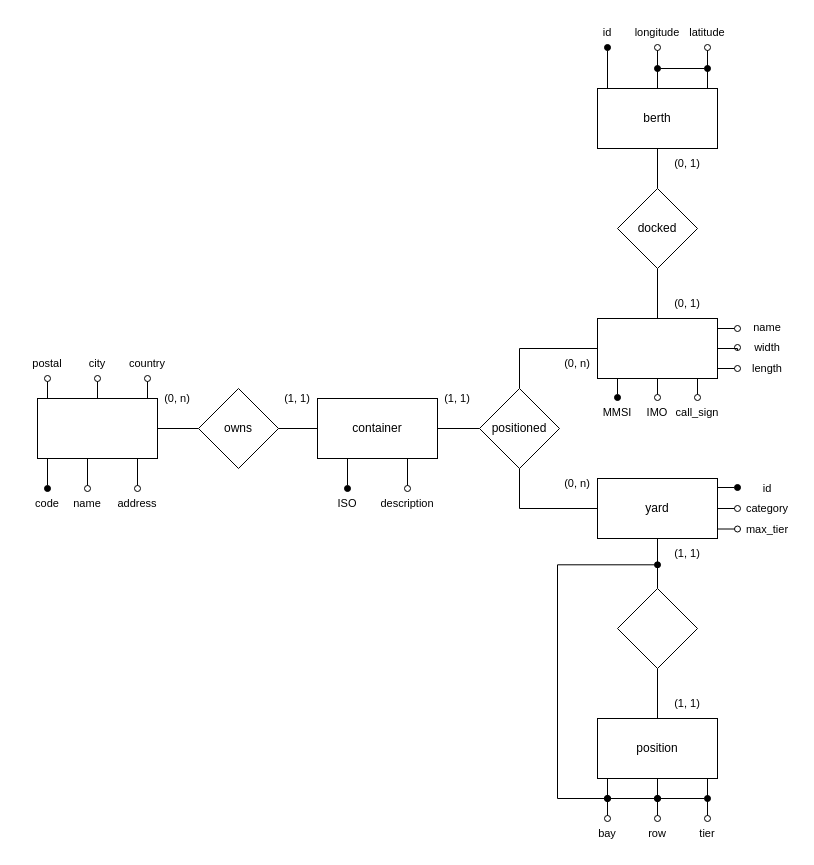
Some shapes in this 814 by 865 pixel diagram are drawn without their labels. Here are the shapes that lost their labels. From the top down, the centre of each, then its label:
(657,348): ship
(97,428): comapies
(657,628): located
